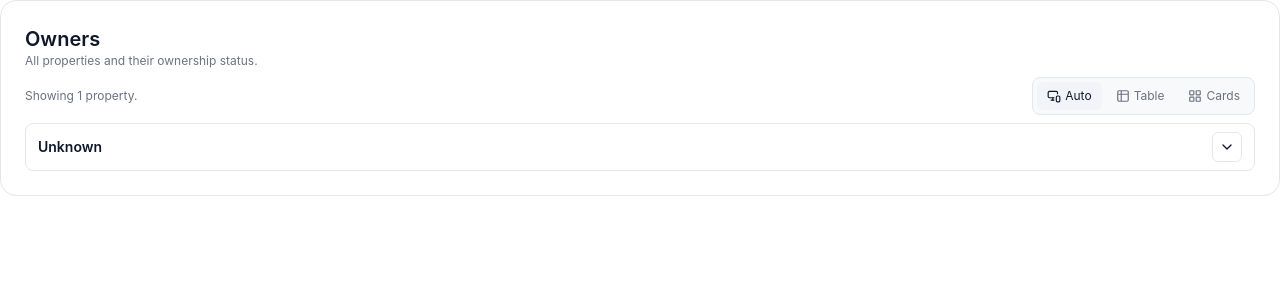
Test case: OwnersManager › shows — when property has no owner
The width and height of the screenshot is (1280, 300).
Click the button "Unknown": (70, 146) [25,123,1255,171]
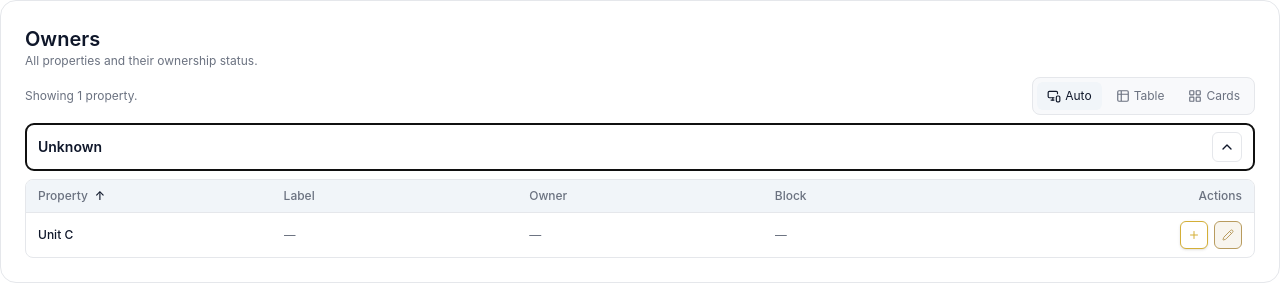
Expected: the 1st text "—" is shown, [284,227,296,242]
